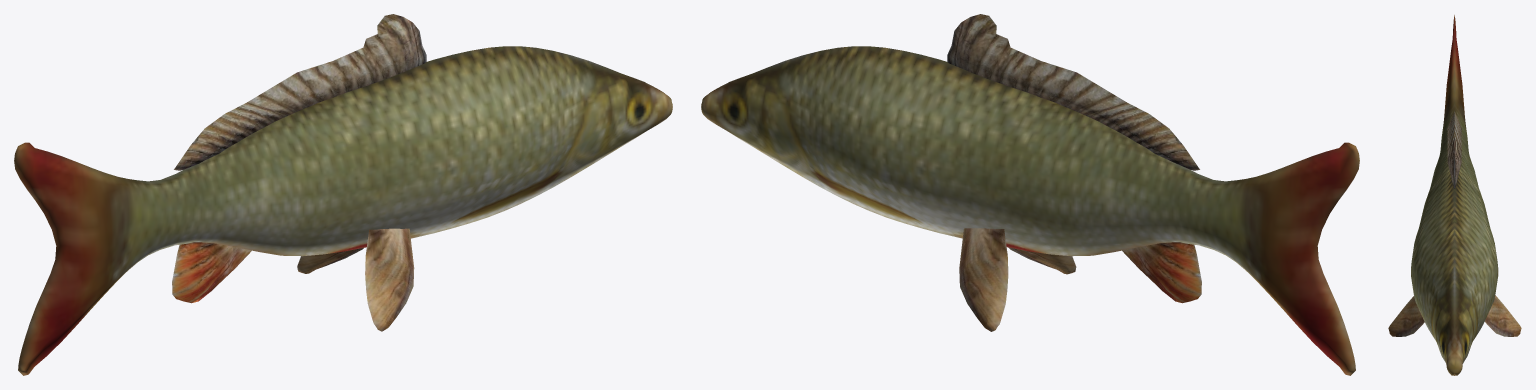
The model's file is Fish 3.fbx.
3 views of the same model, side by side, from view 1: azimuth 30°, elevation 25°; view 2: azimuth 150°, elevation 25°; view 3: azimuth 270°, elevation 25° (orthographic). The views are drawn at different scales.
Parts seen in each view (by area): view 1: Fish_3; view 2: Fish_3; view 3: Fish_3.
Part boxes in pixels (x1=…): Fish_3: x1=14, y1=14, x2=672, y2=375; Fish_3: x1=701, y1=14, x2=1359, y2=375; Fish_3: x1=1388, y1=15, x2=1521, y2=375.
Size of the model in its own units: 11.79 by 4.73 by 2.54.
1 material, 1 textured.
